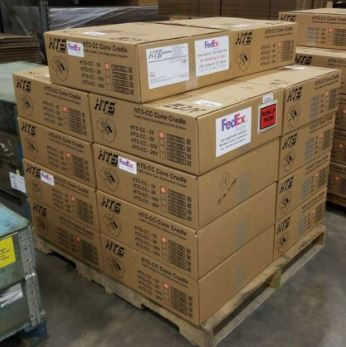box: (44, 18, 299, 77), (92, 192, 279, 256), (94, 93, 197, 167), (13, 74, 91, 143), (28, 200, 97, 265), (275, 70, 339, 130), (282, 183, 334, 239), (279, 132, 345, 176)
box_label: (142, 46, 194, 93), (195, 35, 242, 77), (215, 114, 255, 152), (62, 36, 84, 62), (110, 156, 138, 175), (40, 171, 61, 186)
pallet: (81, 266, 309, 344)
